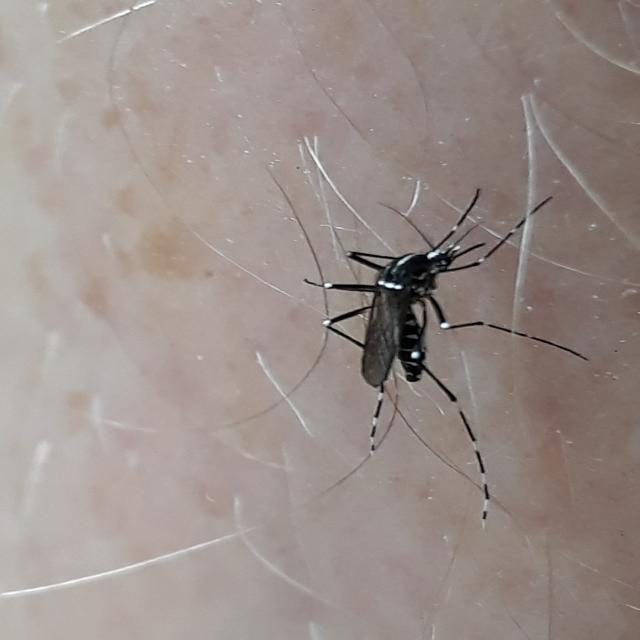albopictus: (256, 144, 583, 534)
